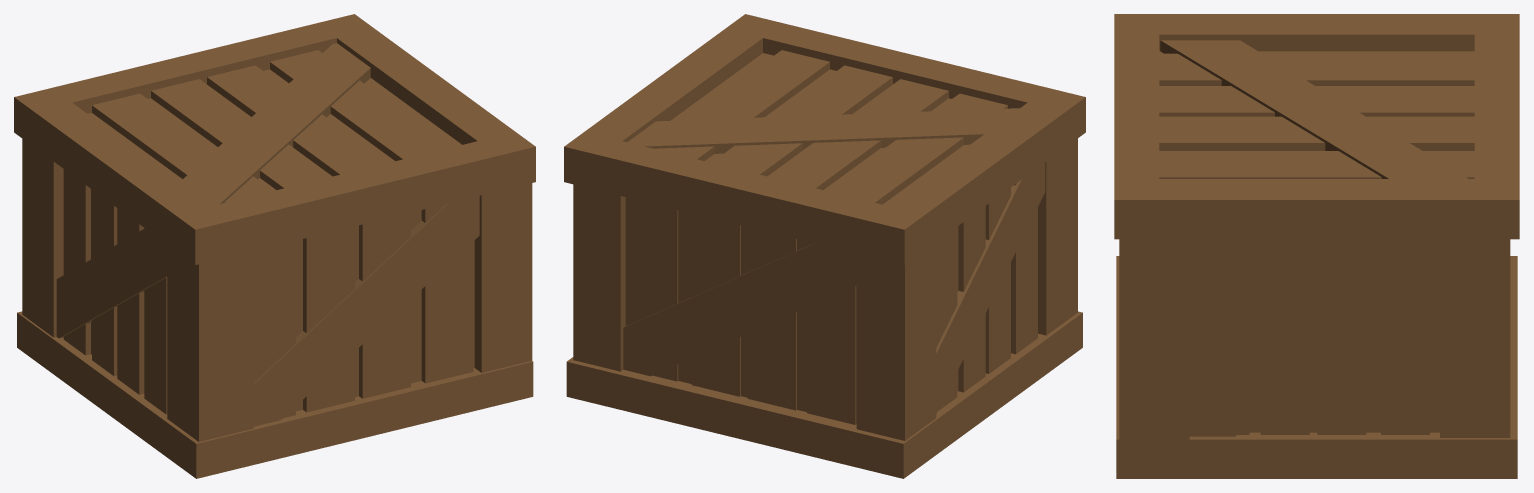
File: medieval_crate.fbx
The picture shows the model from 3 angles, left to right: view 1: azimuth 30°, elevation 25°; view 2: azimuth 150°, elevation 25°; view 3: azimuth 270°, elevation 25°; orthographic projection. The views are drawn at different scales.
Parts seen in each view (by area): view 1: crate; view 2: crate; view 3: crate.
Boxes of the visible parts, x1,y1,x2,y2 form: crate: (14, 14, 535, 478); crate: (564, 14, 1085, 478); crate: (1114, 14, 1519, 478).
Bounding box in the file's own units: 4.49 × 3.15 × 4.14.
